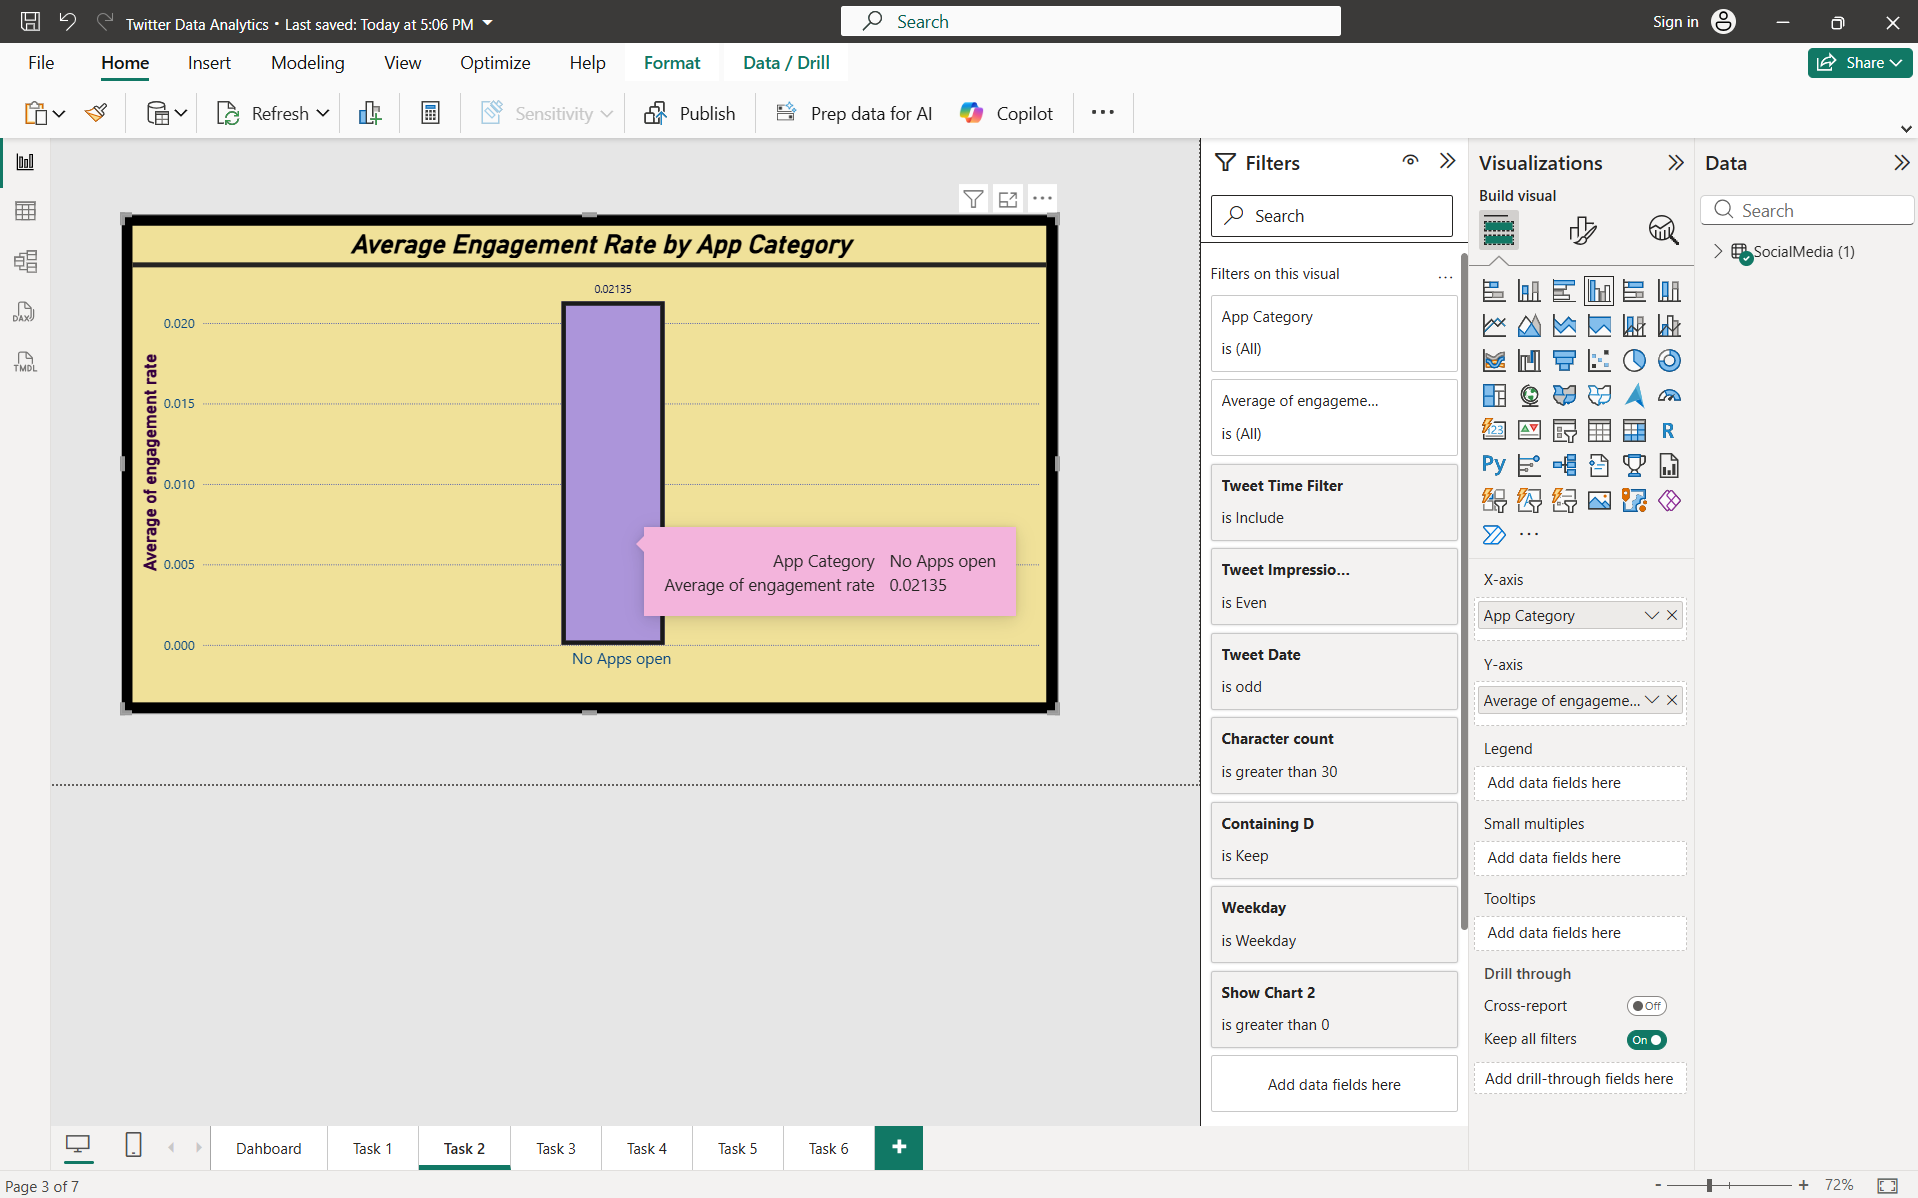

Layout of this report page (visuals, bound fields, positions):
{"tool":"powerbi","page":{"name":"Task 2","canvas":[1280,720],"ordinal":2},"visuals":[{"type":"clusteredColumnChart","title":"Average Engagement Rate by App Category","fields":{"Category":["SocialMedia (1).App Category"],"Y":["Avg(SocialMedia (1).engagement rate)"]},"box":[78.2,85.1,1044.3,557.1],"z":0}]}

Visuals, with their boxes on the page's 1280x720 design canvas (x1, y1, x2, y2). These are canvas units, not pixel positions in the 1918x1198 screenshot, which may show the page scaled, cropped or inside an application window:
"Average Engagement Rate by App Category" clusteredColumnChart: [x1=78, y1=85, x2=1122, y2=642]
